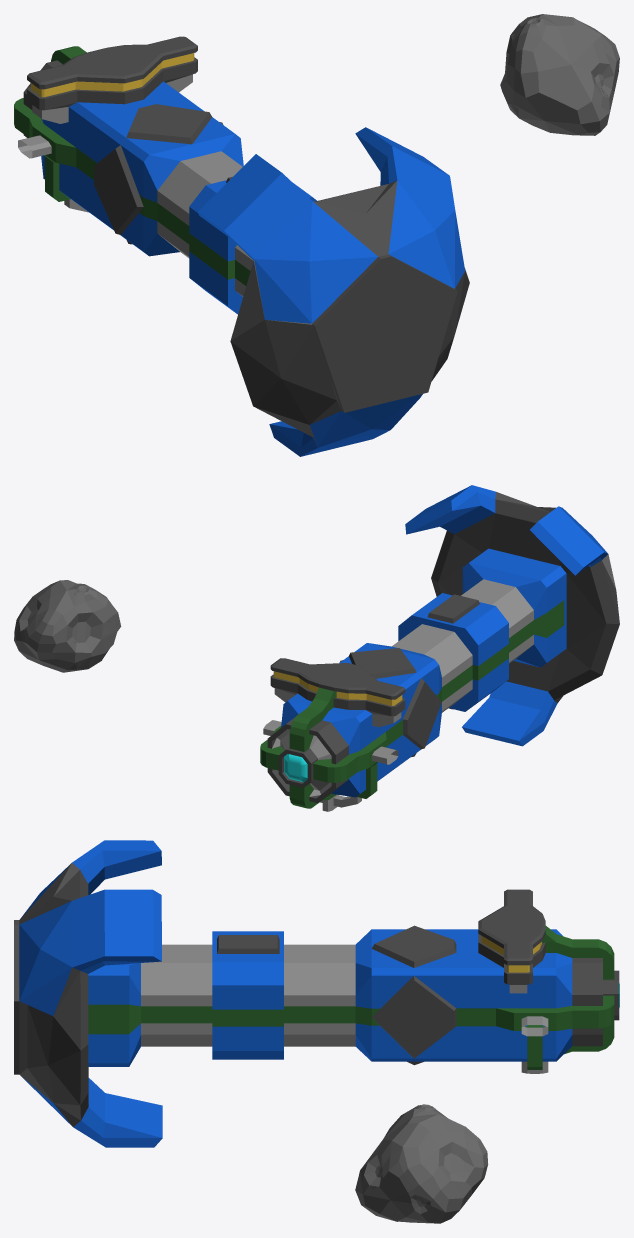
File: Asteroid_1.fbx
3 views of the same model, one above another, from view 1: azimuth 30°, elevation 25°; view 2: azimuth 150°, elevation 25°; view 3: azimuth 270°, elevation 25° (orthographic). The views are drawn at different scales.
Parts seen in each view (by area): view 1: Hull, Asteroid; view 2: Hull, Asteroid; view 3: Hull, Asteroid.
Part boxes in pixels (box(x1,y1,x2,y2)): Hull: box(14, 36, 469, 456); Asteroid: box(500, 14, 619, 135); Hull: box(260, 485, 619, 811); Asteroid: box(14, 580, 121, 672); Hull: box(14, 840, 619, 1147); Asteroid: box(355, 1104, 488, 1223).
Bounding box in the file's own units: 11.3 × 5.45 × 11.24.
